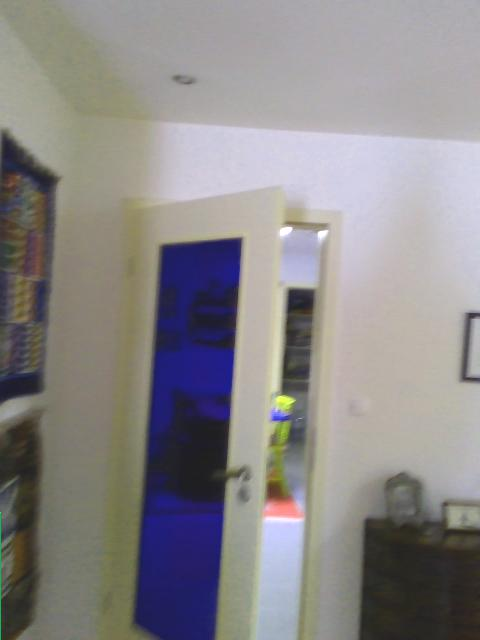semi_door: (97, 183, 341, 639)
